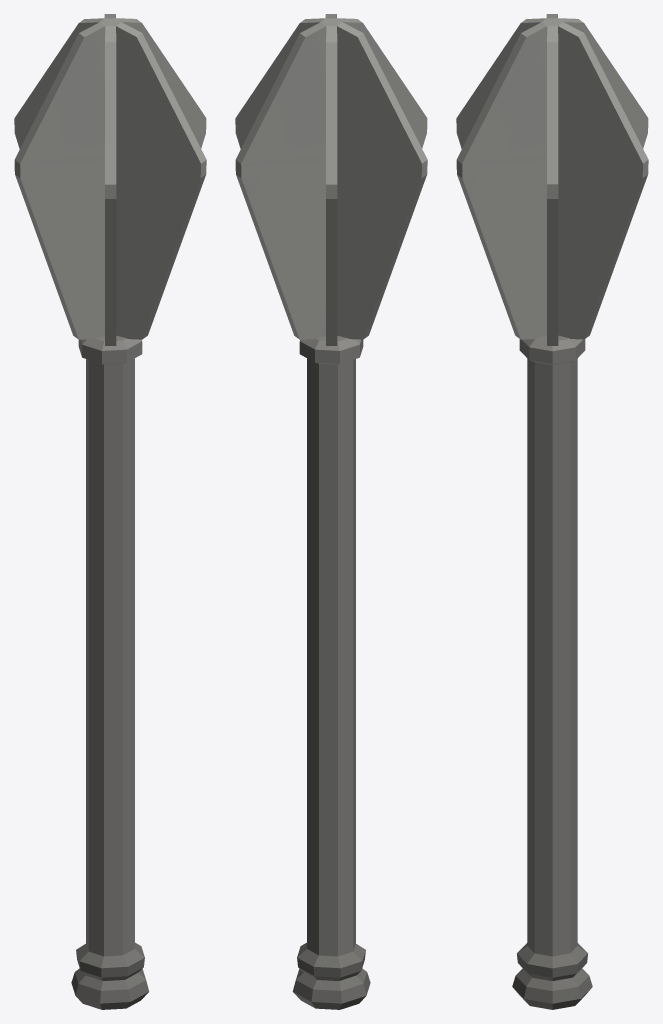
File: SM_pwe_medieval_mace_07.fbx
3 views of the same model, side by side, from view 1: azimuth 30°, elevation 25°; view 2: azimuth 150°, elevation 25°; view 3: azimuth 270°, elevation 25° (orthographic).
Parts seen in each view (by area): view 1: SM_pwe_medieval_mace_07; view 2: SM_pwe_medieval_mace_07; view 3: SM_pwe_medieval_mace_07.
Boxes of the visible parts, box(x1,y1,x2,y2) form: SM_pwe_medieval_mace_07: box(14, 14, 206, 1009); SM_pwe_medieval_mace_07: box(235, 14, 427, 1009); SM_pwe_medieval_mace_07: box(456, 14, 648, 1009).
Size of the model in its own units: 16.24 by 81.08 by 14.5.
